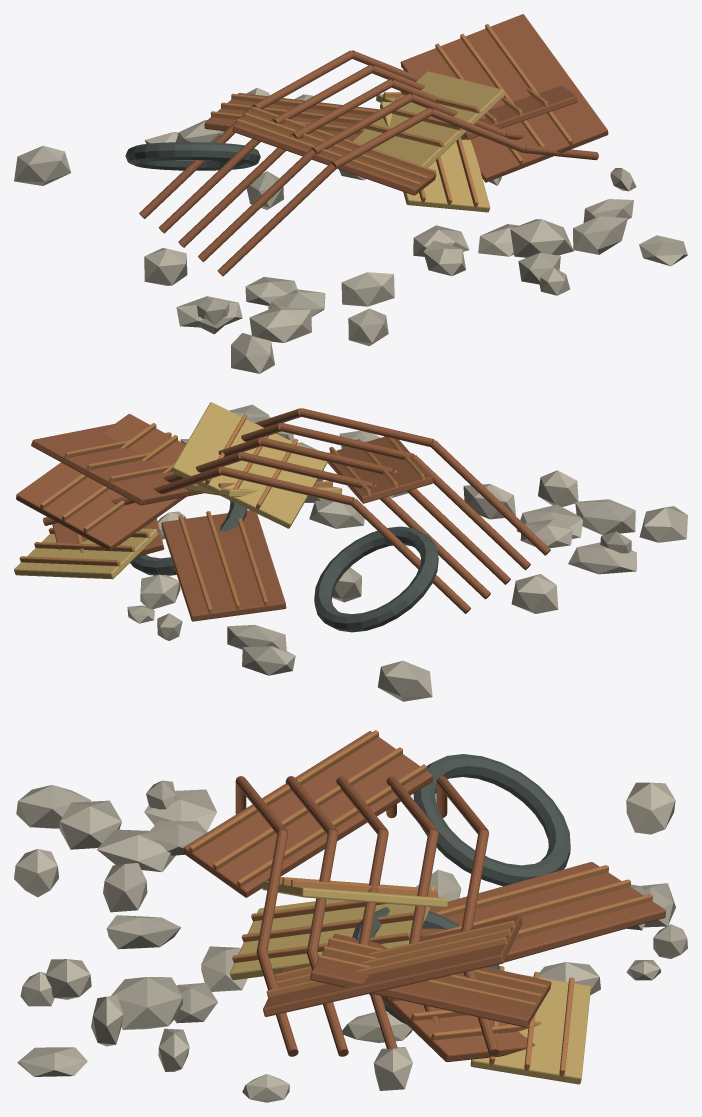
File: Garbage_Mixed_Scrap.glb
3 renders of one model, top to bottom at view 1: azimuth 30°, elevation 25°; view 2: azimuth 150°, elevation 25°; view 3: azimuth 270°, elevation 25°, orthographic. The views are drawn at different scales.
Parts seen in each view (by area): view 1: Torn sheet metal.005, Torn sheet metal.006, Torn sheet metal.003, Scrap wheel rim, Torn sheet metal.007, Broken concrete aggregate.007, Broken concrete aggregate.003, Torn sheet metal.004, Broken concrete aggregate.016, Broken concrete aggregate.014, Broken concrete aggregate.009, Torn sheet metal.002 (+36 smaller); view 2: Torn sheet metal.002, Torn sheet metal.004, Torn sheet metal.006, Scrap wheel rim, Torn sheet metal.005, Torn sheet metal, Torn sheet metal.007, Broken concrete aggregate.016, Broken concrete aggregate.003, Broken concrete aggregate.004, Broken concrete aggregate.026, Broken concrete aggregate.020 (+33 smaller); view 3: Torn sheet metal.007, Torn sheet metal.002, Scrap wheel rim, Torn sheet metal, Torn sheet metal.004, Torn sheet metal.005, Torn sheet metal.003, Torn sheet metal.001, Broken concrete aggregate.007, Broken concrete aggregate.003, Broken concrete aggregate.019, Broken concrete aggregate.016 (+55 smaller).
Boxes of the visible parts, x1,y1,x2,y2 form: Torn sheet metal.005: (400,14,608,182); Torn sheet metal.006: (353,71,505,167); Torn sheet metal.003: (380,101,490,212); Scrap wheel rim: (125,142,260,170); Torn sheet metal.007: (232,112,436,195); Broken concrete aggregate.007: (510,219,573,257); Broken concrete aggregate.003: (249,306,311,342); Torn sheet metal.004: (462,85,577,139); Broken concrete aggregate.016: (14,145,71,185); Broken concrete aggregate.014: (573,216,627,254); Broken concrete aggregate.009: (341,272,394,306); Torn sheet metal.002: (204,93,379,141); Torn sheet metal.002: (161,510,286,621); Torn sheet metal.004: (16,414,186,551); Torn sheet metal.006: (171,402,327,528); Scrap wheel rim: (314,526,438,632); Torn sheet metal.005: (31,424,203,505); Torn sheet metal: (14,528,158,579); Torn sheet metal.007: (327,437,432,503); Broken concrete aggregate.016: (378,660,432,701); Broken concrete aggregate.003: (575,499,635,535); Broken concrete aggregate.004: (568,542,636,574); Broken concrete aggregate.026: (511,574,558,613); Broken concrete aggregate.020: (639,506,687,542); Torn sheet metal.007: (183,731,432,897); Torn sheet metal.002: (421,862,665,962); Scrap wheel rim: (413,754,570,886); Torn sheet metal: (470,974,590,1084); Torn sheet metal.004: (310,934,551,1027); Torn sheet metal.005: (263,915,522,1016); Torn sheet metal.003: (230,885,436,980); Torn sheet metal.001: (380,995,535,1061); Broken concrete aggregate.007: (111,977,182,1029); Broken concrete aggregate.003: (59,800,121,849); Broken concrete aggregate.019: (97,829,175,871); Broken concrete aggregate.016: (626,782,675,834).
Bounding box in the file's own units: 3.46 × 0.8891 × 3.22.
